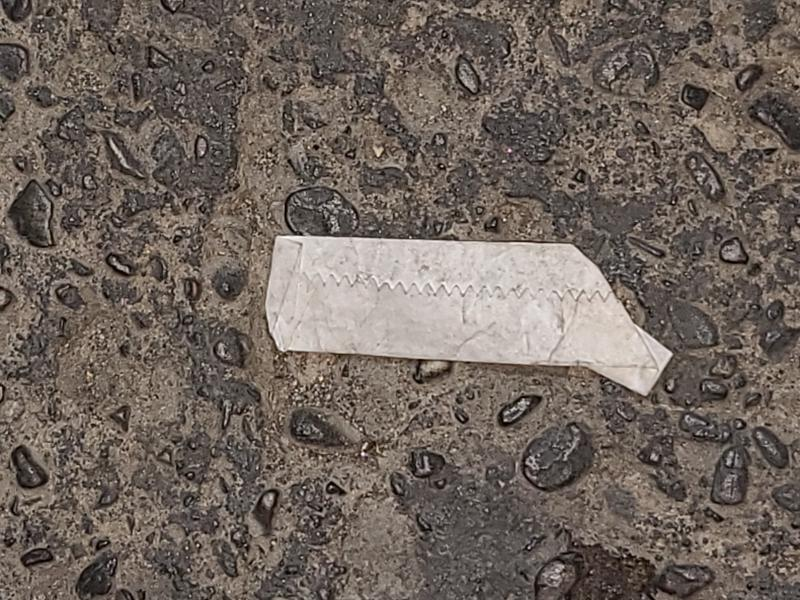papel: (262, 236, 673, 396)
